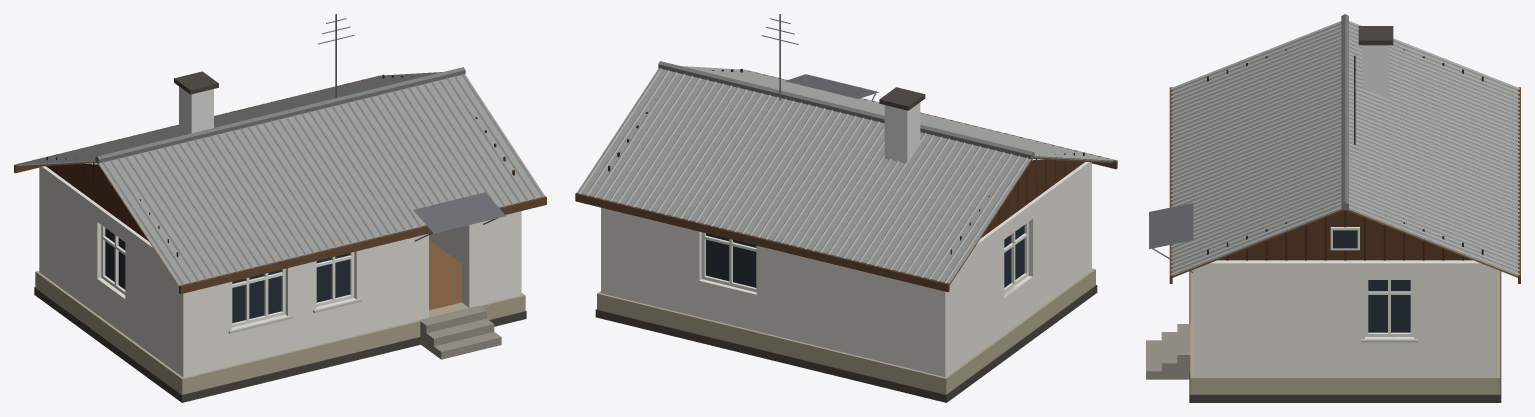
The model's file is KG_House_White.obj.
3 views of the same model, side by side, from view 1: azimuth 30°, elevation 25°; view 2: azimuth 150°, elevation 25°; view 3: azimuth 270°, elevation 25° (orthographic). The views are drawn at different scales.
Parts seen in each view (by area): view 1: KG_House_White; view 2: KG_House_White; view 3: KG_House_White.
Part boxes in pixels (<box>): KG_House_White: <box>14,14,546,402</box>; KG_House_White: <box>575,14,1117,402</box>; KG_House_White: <box>1146,14,1520,402</box>.
Bounding box in the file's own units: 9.1 × 6.51 × 7.64.
